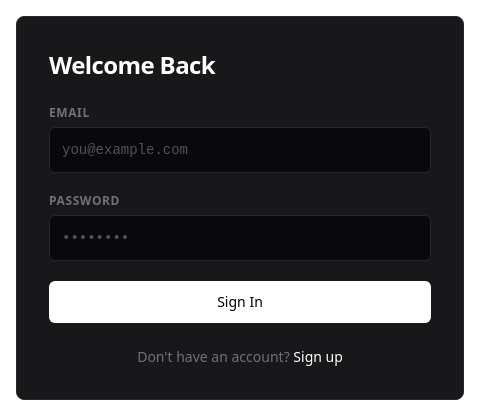
Test case: LoginPage › should show loading state during login
The image size is (481, 417).
Type "test@example.com" into the field labelled "Email".
click(240, 150); type("test@example.com")  # box [49,127,431,173]
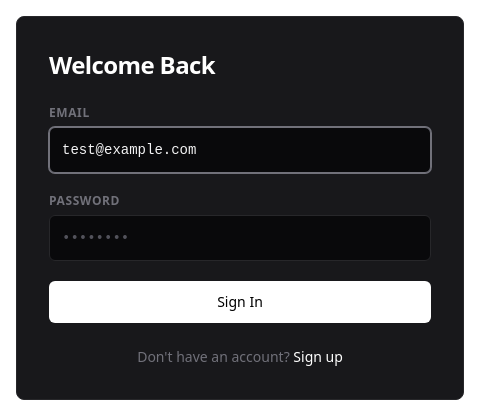
Type "password123" into the password field labelled "Password".
click(240, 238); type("password123")  # box [49,215,431,261]
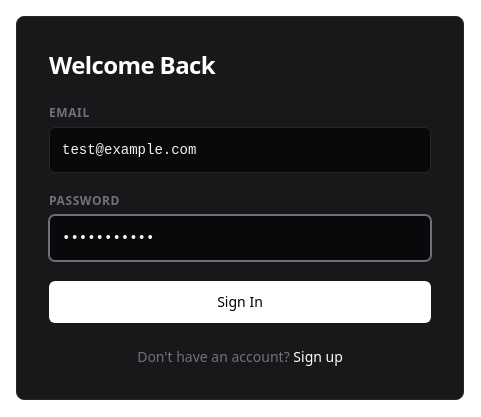
Click the button "Sign In".
click(240, 302)  # box [49,281,431,323]
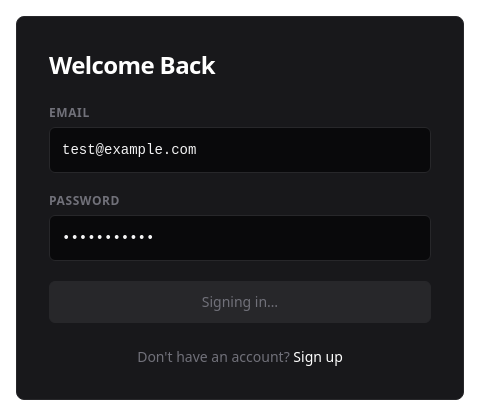
expect the button "Signing in…" is disabled: met, box [49,281,431,323]
